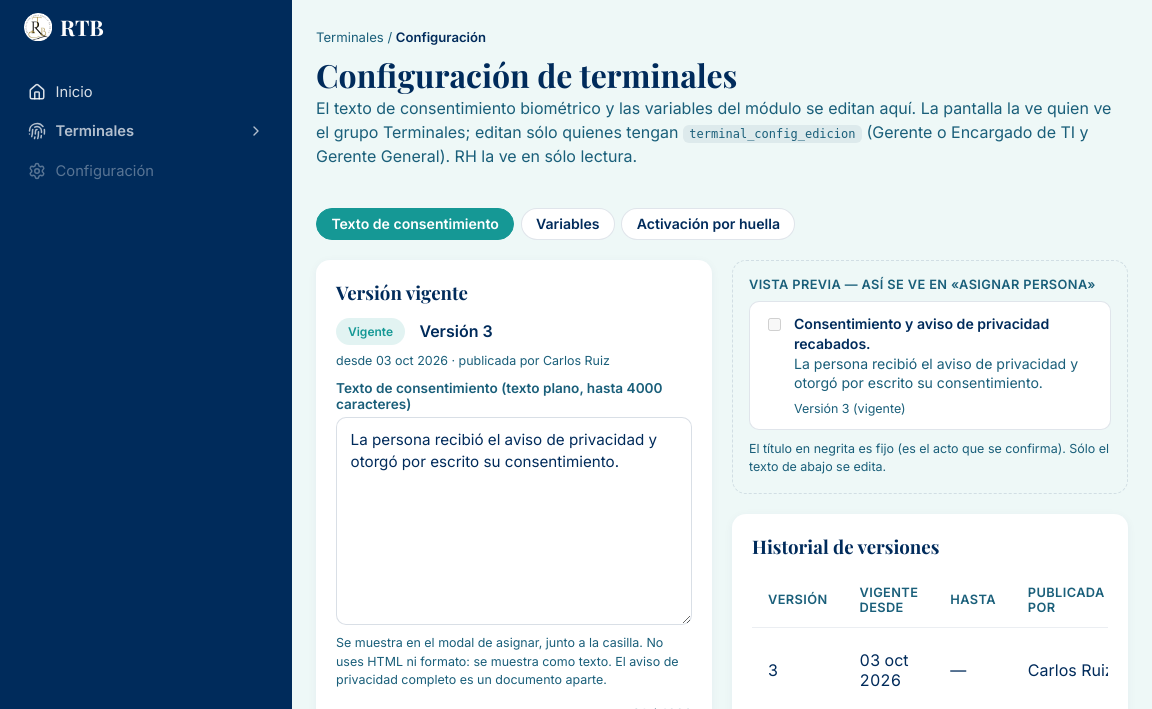
it: ConsentimientoTerminalesPage › Revisar y publicar está inerte sin cambios o con el texto vacío
Clear the text box labelled "Texto de consentimiento (texto plano, hasta 4000 caracteres)" at {"x": 514, "y": 521}, box [336,417,692,625]
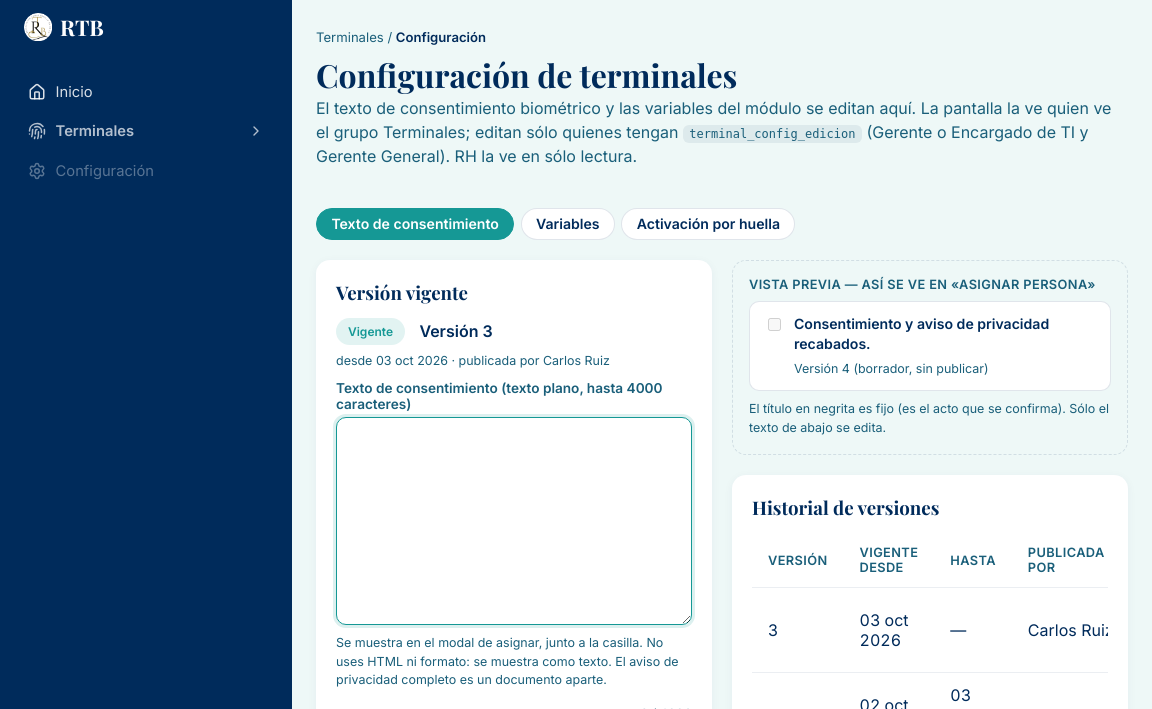
Type "Otro" into the text box labelled "Texto de consentimiento (texto plano, hasta 4000 caracteres)" at {"x": 514, "y": 521}, box [336,417,692,625]
(page scrolled)
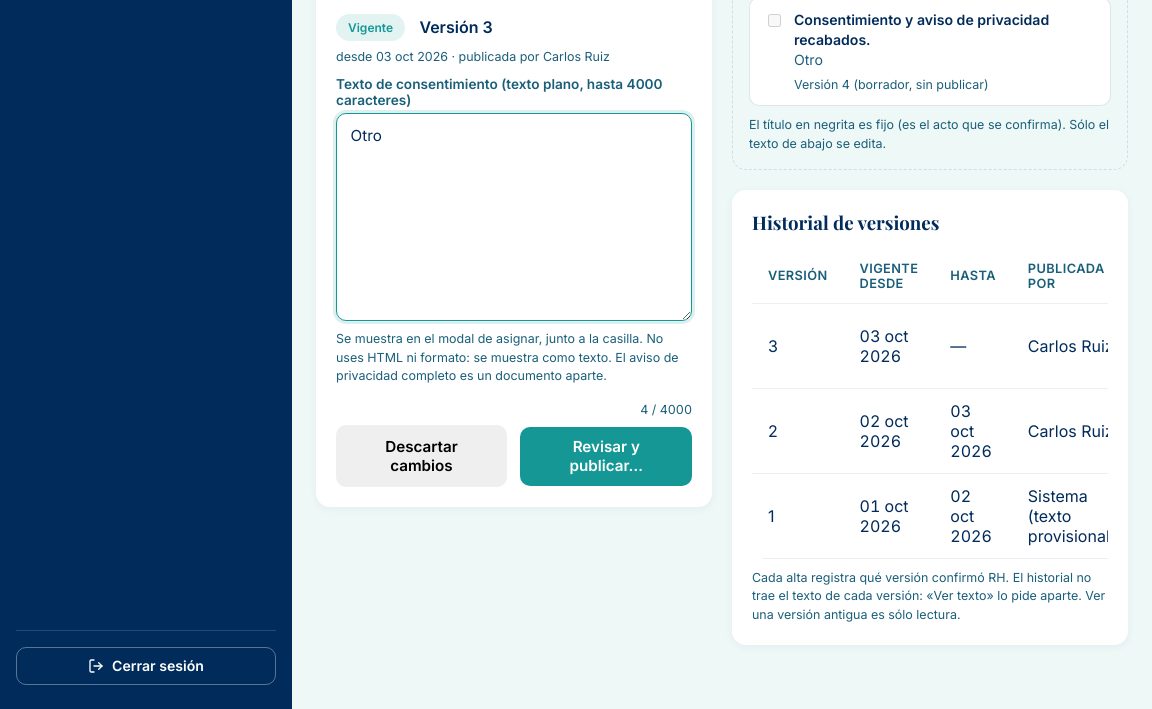
Result: the button "Revisar y publicar…" is enabled at [520,427,692,486]
